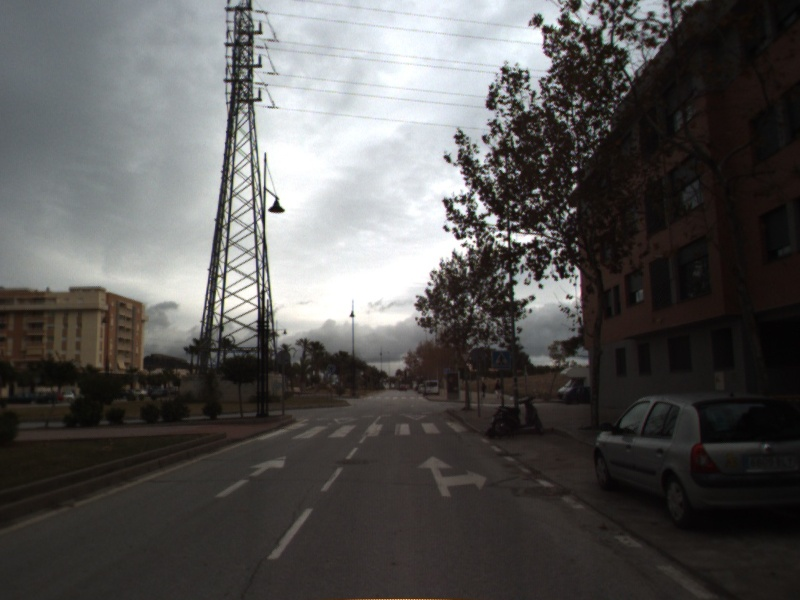STRAIGHT: (212, 454, 288, 499)
STRAIGHT_RIGHT: (414, 454, 489, 499)
